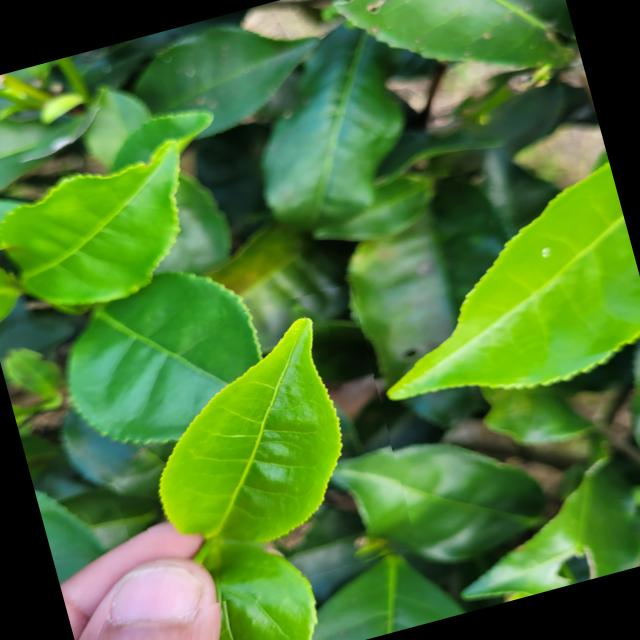Category B(2-4 days): (80, 283, 422, 622)
